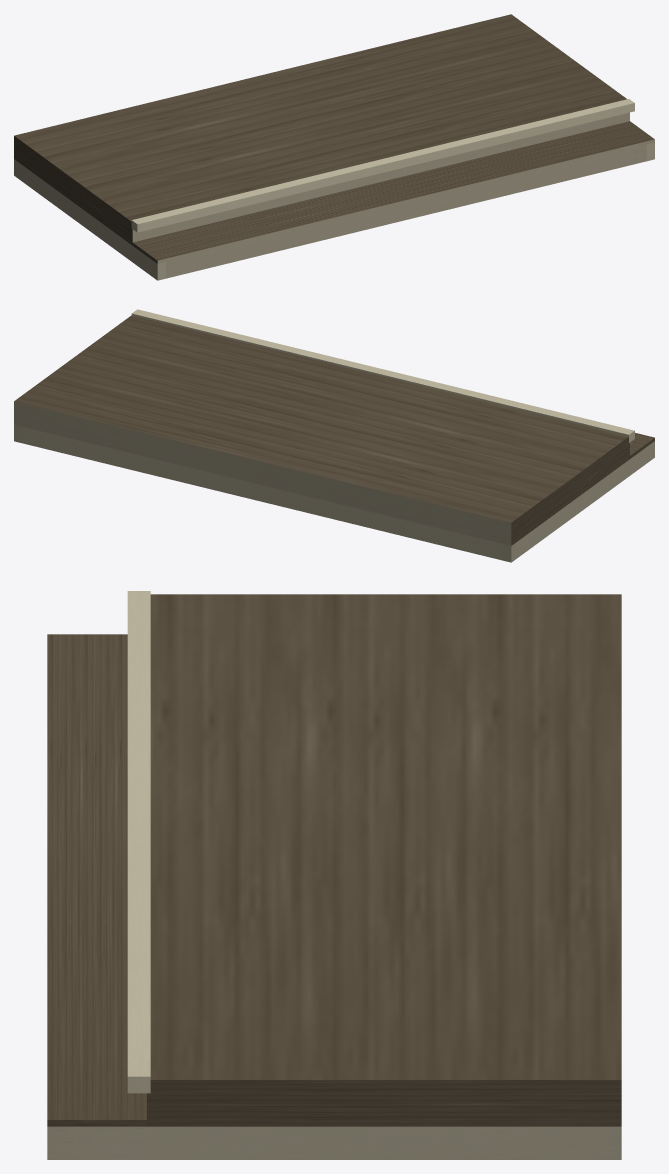
The model's file is house_04_porch_deck.glb.
3 views of the same model, one above another, from view 1: azimuth 30°, elevation 25°; view 2: azimuth 150°, elevation 25°; view 3: azimuth 270°, elevation 25° (orthographic). The views are drawn at different scales.
Visible parts, largest first — view 1: outdoor_house_04_porch_deck; view 2: outdoor_house_04_porch_deck; view 3: outdoor_house_04_porch_deck.
Boxes of the visible parts, x1,y1,x2,y2 form: outdoor_house_04_porch_deck: (14,14,654,280); outdoor_house_04_porch_deck: (14,309,654,562); outdoor_house_04_porch_deck: (47,591,621,1159).
Bounding box in the file's own units: 3 × 0.24 × 1.5.
1 material, 1 textured.
